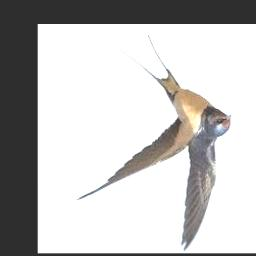Swallow: (74, 35, 232, 253)
